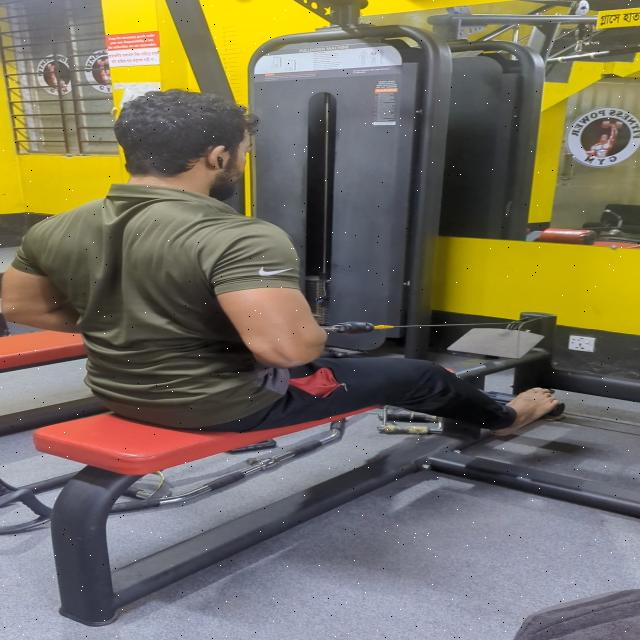Normal_RowingMachineExercise: (0, 92, 640, 540)
